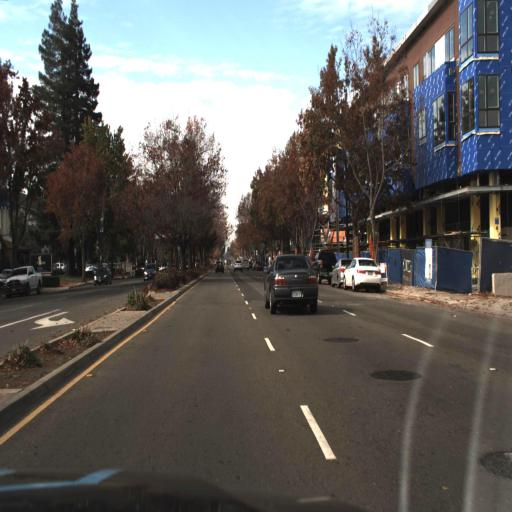car: (261, 251, 319, 316), (341, 253, 385, 294), (5, 262, 46, 300), (342, 253, 381, 291), (313, 247, 334, 290), (329, 257, 353, 288), (92, 264, 111, 288), (140, 260, 159, 284), (211, 257, 229, 280), (233, 256, 246, 276)
